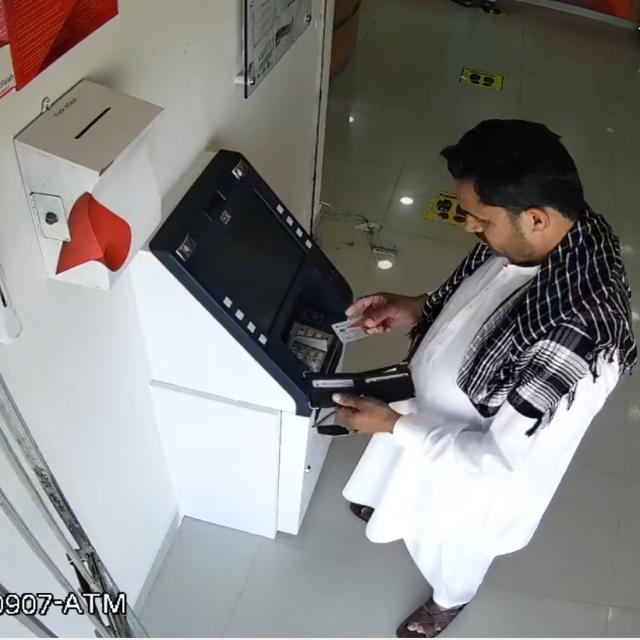atm-card: (323, 311, 388, 349)
